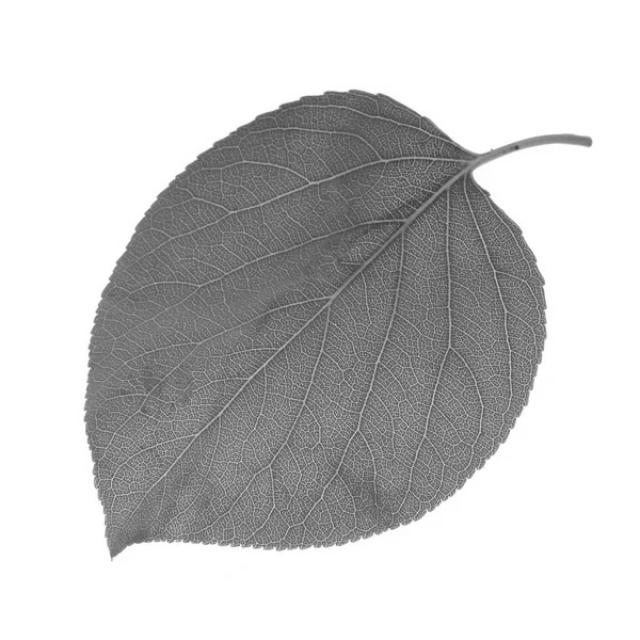Kayisi Yapragi: (95, 95, 590, 550)
